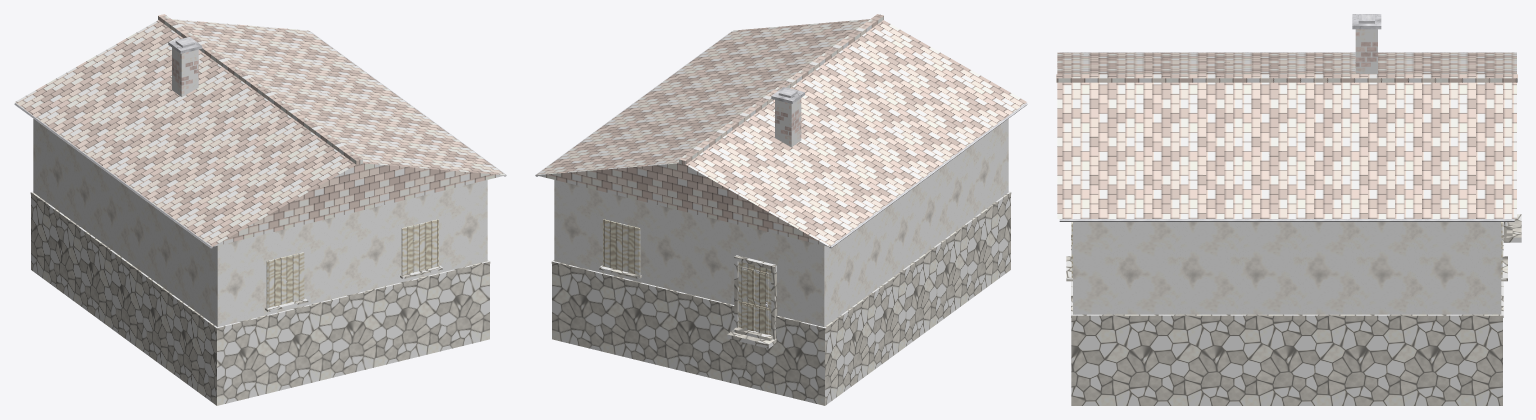
3 views of the same model, side by side, from view 1: azimuth 30°, elevation 25°; view 2: azimuth 150°, elevation 25°; view 3: azimuth 270°, elevation 25° (orthographic). The views are drawn at different scales.
Visible parts, largest first — view 1: b1088806816; view 2: b1088806816; view 3: b1088806816.
Boxes of the visible parts, x1=… form: b1088806816: x1=14, y1=14, x2=506, y2=405; b1088806816: x1=535, y1=14, x2=1027, y2=405; b1088806816: x1=1056, y1=14, x2=1521, y2=405.
Size of the model in its own units: 8.84 by 7.06 by 10.34.
Materials: 17 (17 with a texture image).
